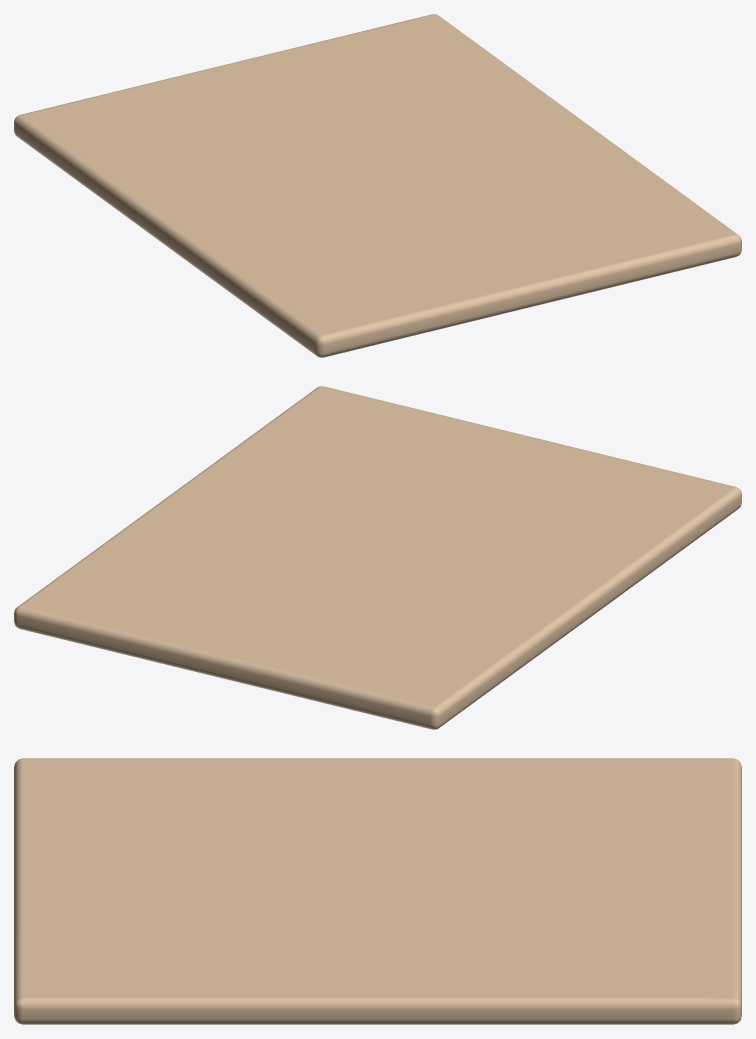
Rendered from atelier-duvet.glb.
The picture shows the model from 3 angles, top to bottom: view 1: azimuth 30°, elevation 25°; view 2: azimuth 150°, elevation 25°; view 3: azimuth 270°, elevation 25°; orthographic projection. The views are drawn at different scales.
Visible parts, largest first — view 1: bedding.017; view 2: bedding.017; view 3: bedding.017.
Boxes of the visible parts, box(x1,y1,x2,y2) form: bedding.017: box(14, 14, 741, 357); bedding.017: box(14, 386, 741, 729); bedding.017: box(14, 758, 741, 1024).
Bounding box in the file's own units: 1.6 × 0.08 × 2.
